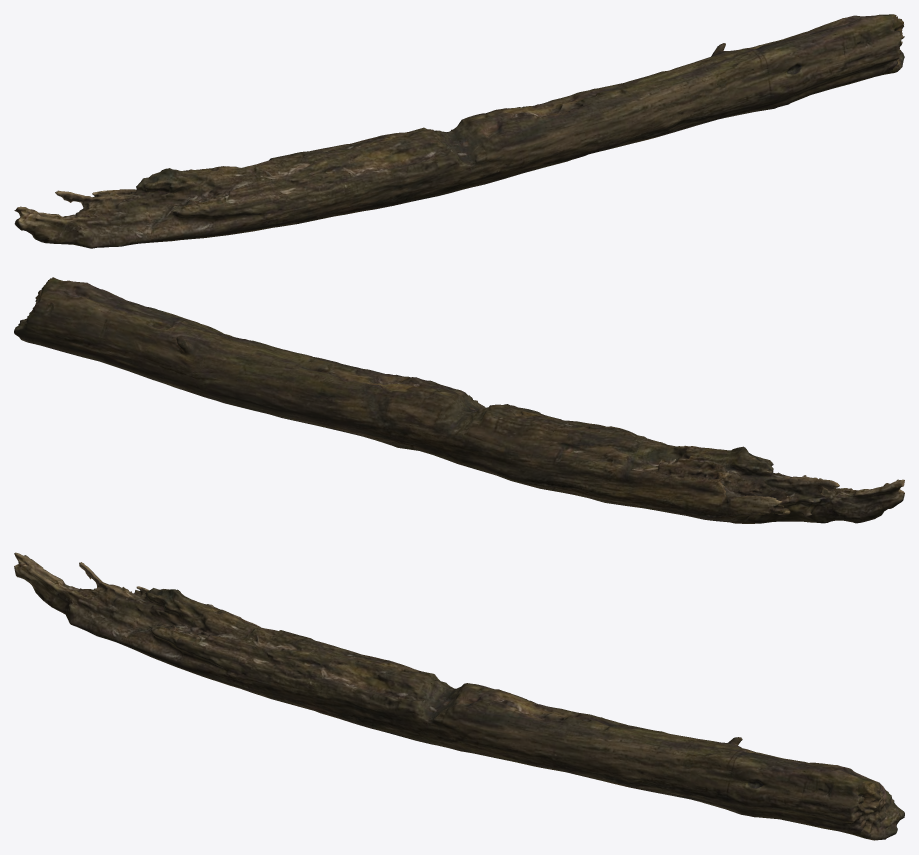
The model's file is dead-trunk.glb.
The picture shows the model from 3 angles, top to bottom: view 1: azimuth 30°, elevation 25°; view 2: azimuth 150°, elevation 25°; view 3: azimuth 330°, elevation 25°; orthographic projection.
Bounding box in the file's own units: 3.05 × 0.2898 × 0.2769.
Materials: 1 (1 with a texture image).
